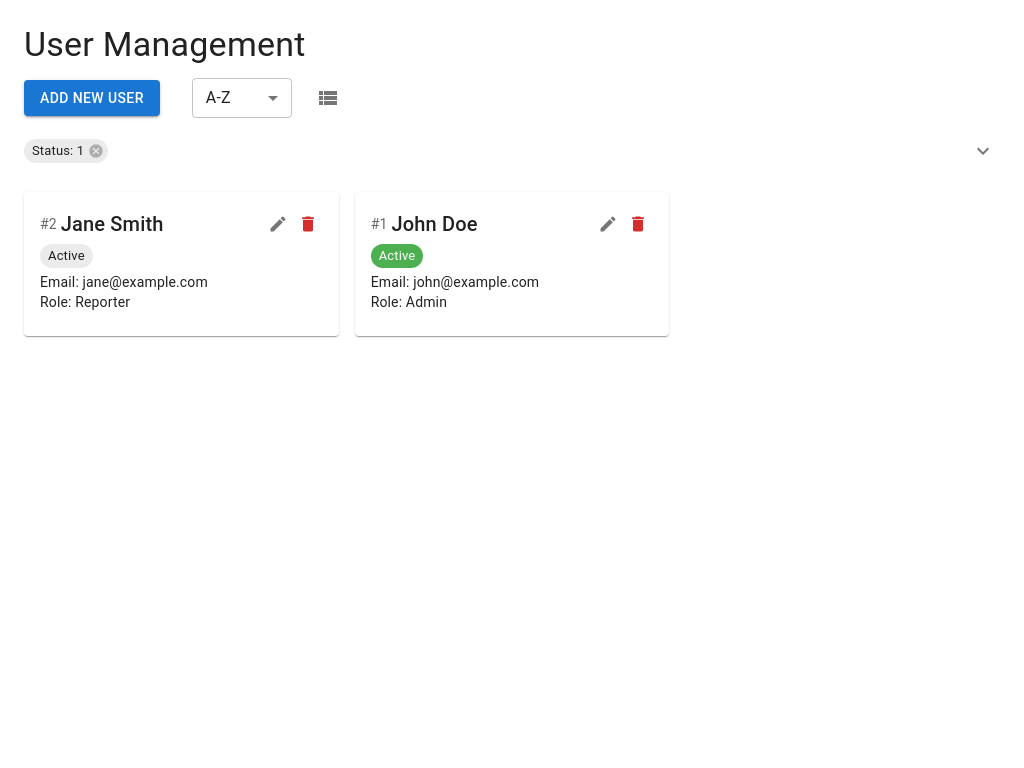
Test: Users Component › handles user deletion
This screenshot has width=1024, height=768.
Click the button with test id "delete-user-1" at (638, 224), box x1=623 y1=209 x2=653 y2=239
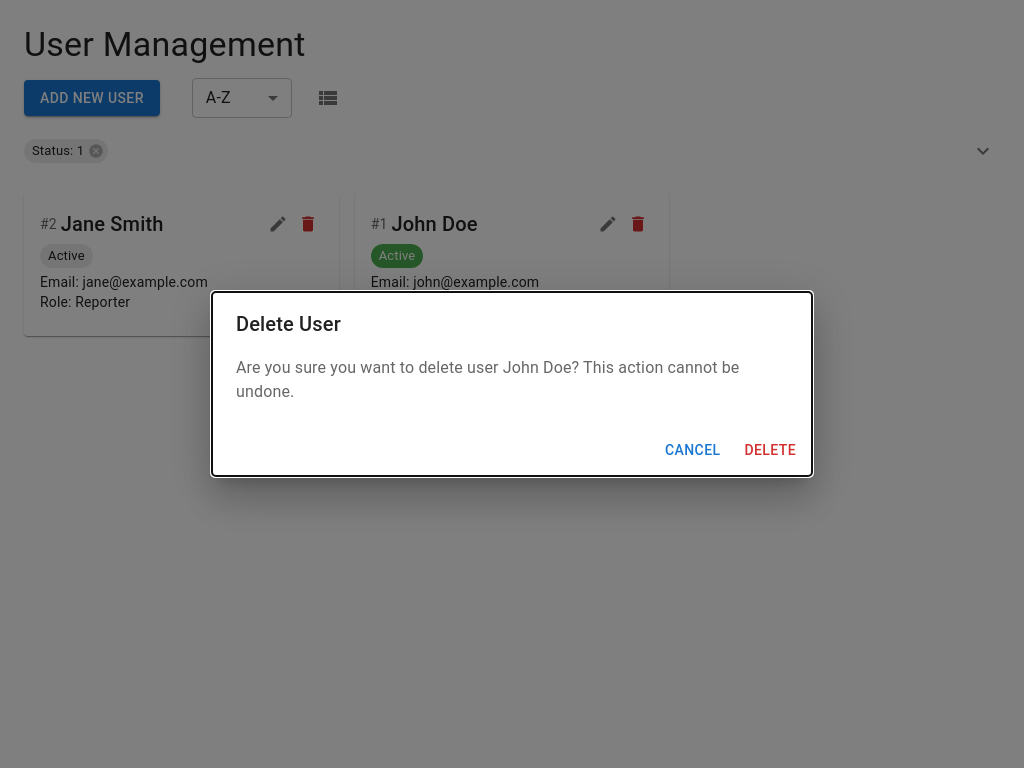
Check: the text "Are you sure you want to delete user" is shown, box x1=236 y1=358 x2=739 y2=401
Note: Click confirm button in dialog
Click the button with test id "confirm-delete-button" at (770, 450), box x1=736 y1=432 x2=804 y2=468
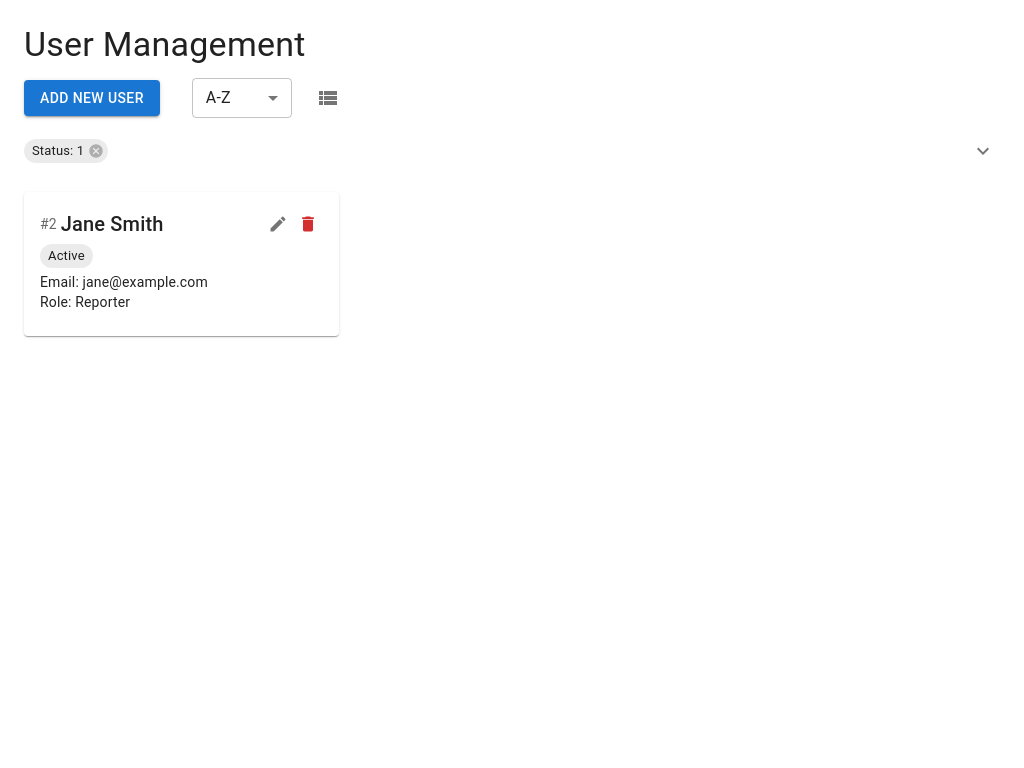
Check: the link "John Doe" is gone
